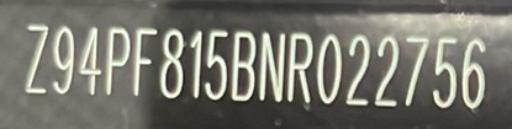letter: (313, 32, 345, 107), (284, 29, 314, 106), (371, 33, 401, 110), (402, 33, 432, 110), (20, 20, 50, 95), (257, 29, 287, 104), (229, 28, 257, 105), (344, 30, 372, 107), (103, 23, 131, 98), (158, 26, 186, 101), (460, 37, 488, 112), (132, 25, 160, 98), (432, 35, 458, 112), (48, 24, 76, 95), (204, 27, 230, 102), (78, 24, 104, 97), (186, 28, 202, 103)
